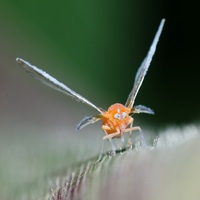insect: (16, 18, 164, 152)
